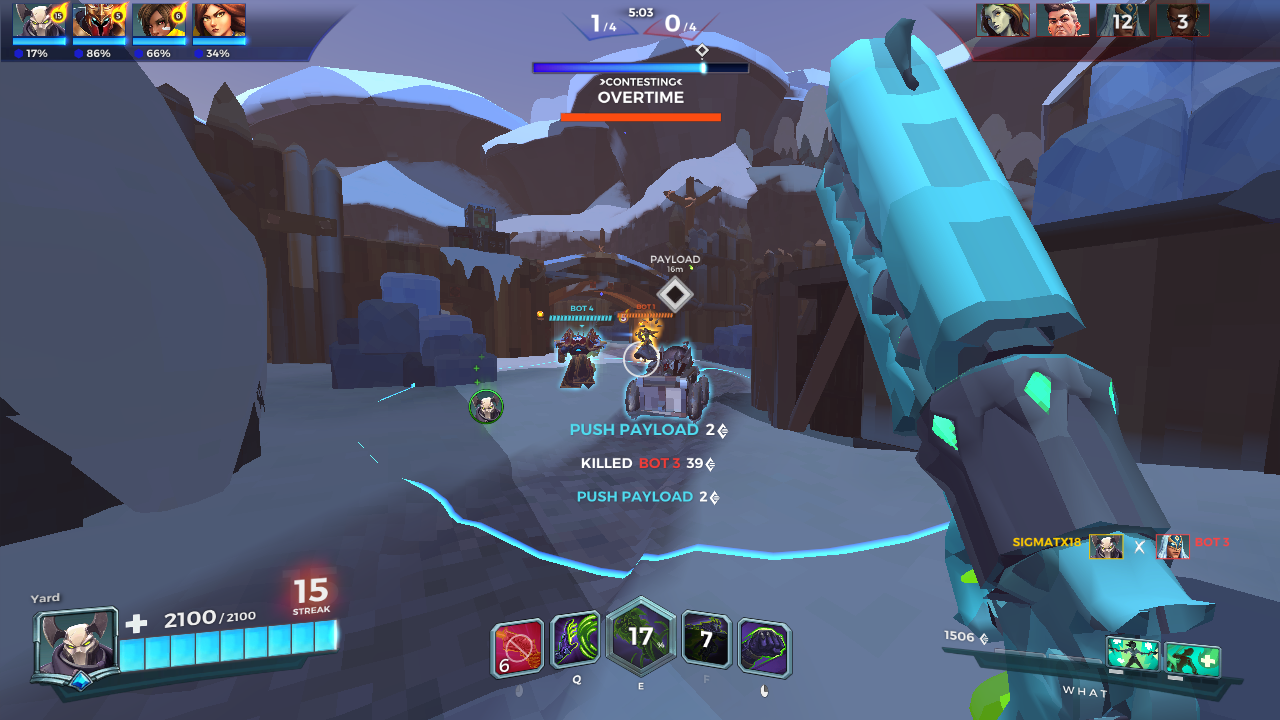model: (633, 322, 660, 360)
